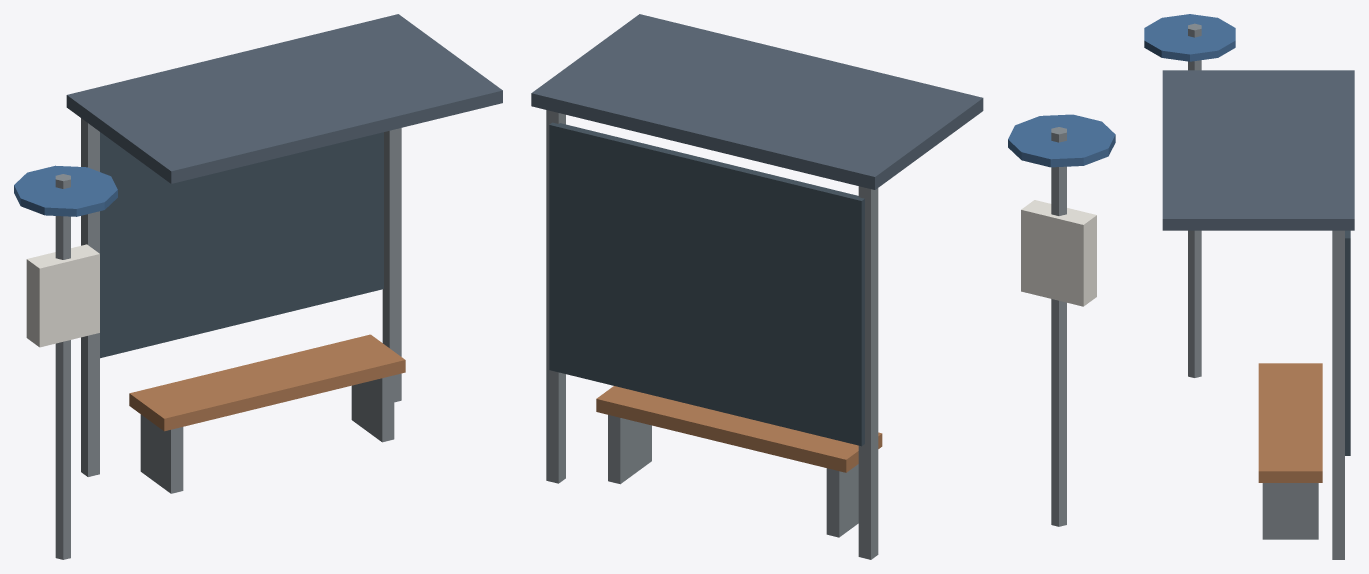
File: station_bus_stop.fbx
3 renders of one model, left to right at view 1: azimuth 30°, elevation 25°; view 2: azimuth 150°, elevation 25°; view 3: azimuth 270°, elevation 25°, orthographic. The views are drawn at different scales.
Parts seen in each view (by area): view 1: station_bus_stop; view 2: station_bus_stop; view 3: station_bus_stop.
Part boxes in pixels (<box>): station_bus_stop: <box>14,14,502,559</box>; station_bus_stop: <box>531,14,1115,559</box>; station_bus_stop: <box>1144,14,1354,559</box>.
Bounding box in the file's own units: 3.1 × 2.4 × 1.32.
1 material, 1 textured.
